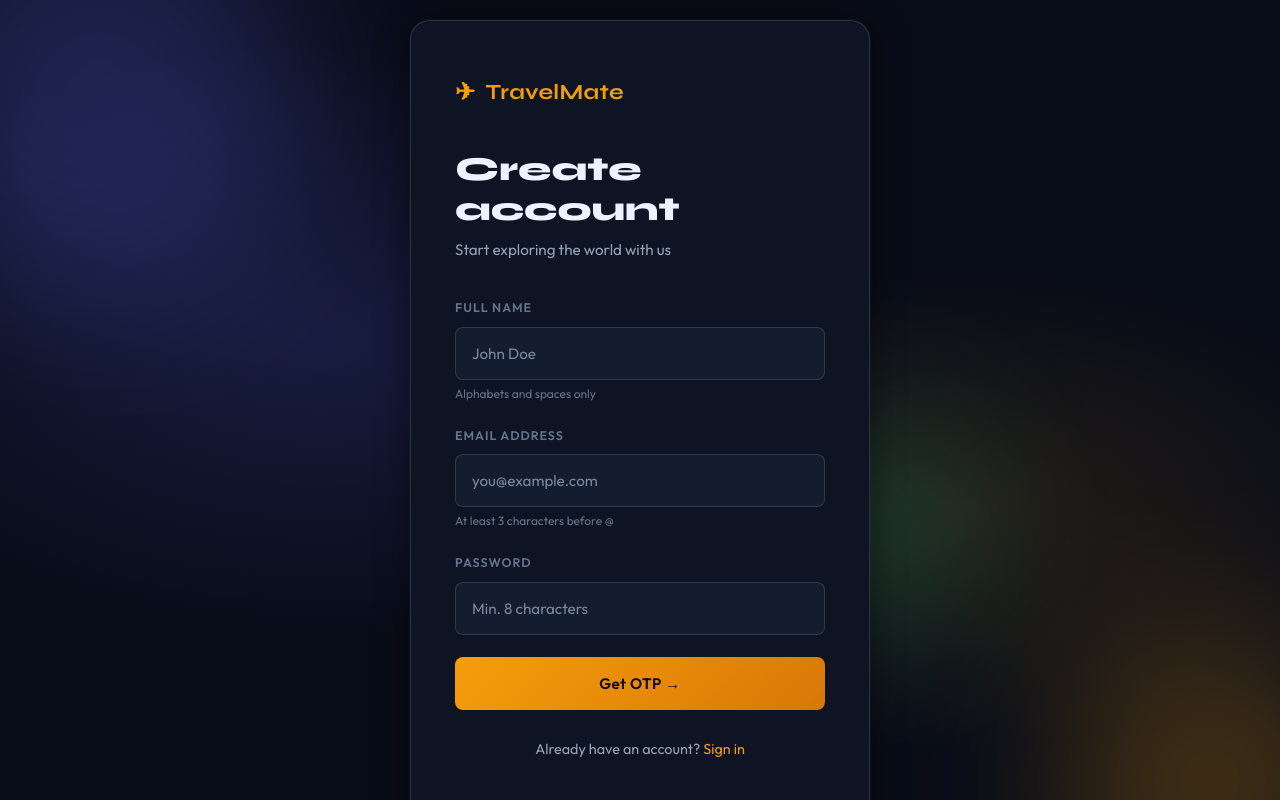
Test: Register Component › shows error if password is too short
The width and height of the screenshot is (1280, 800).
Type "Test User" into the field with placeholder "John Doe" at (640, 353), box [455,327,825,380]
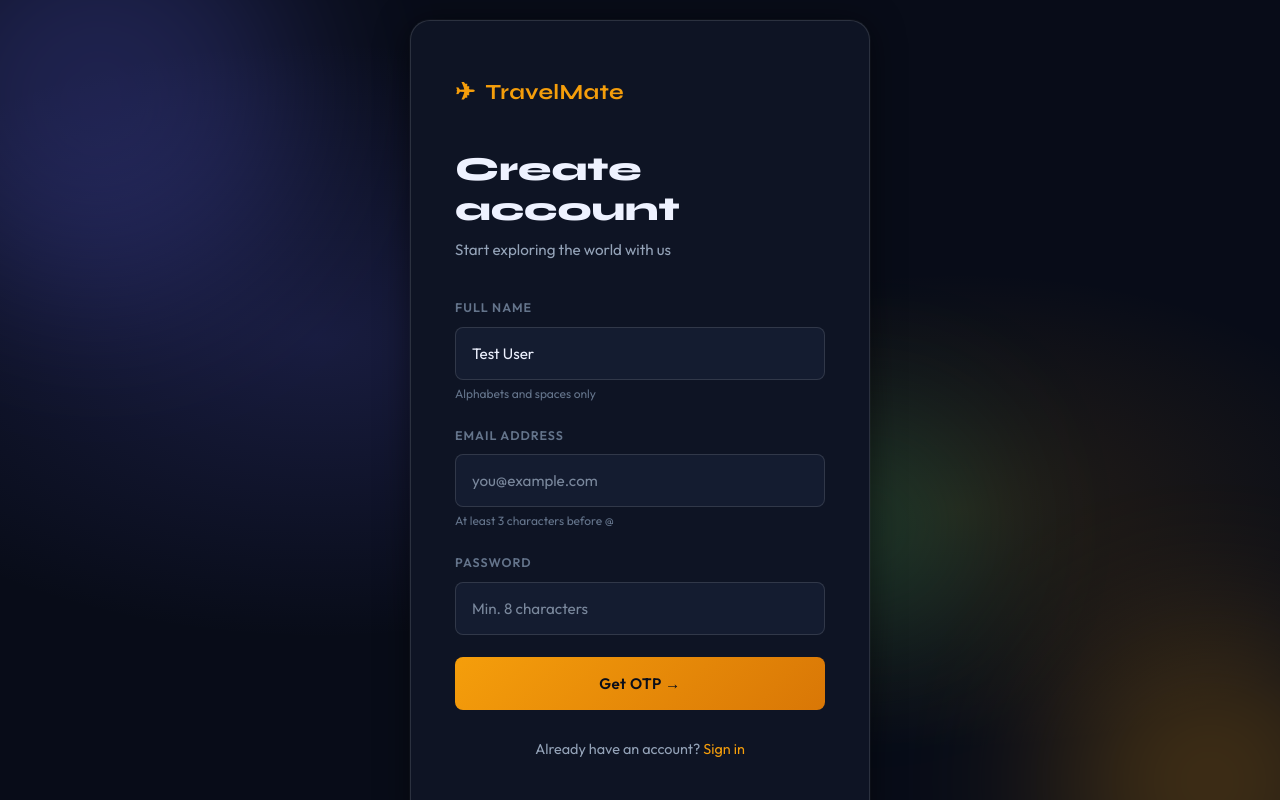
Type "test@test.com" into the field with placeholder "you@example.com" at (640, 481), box [455,454,825,507]
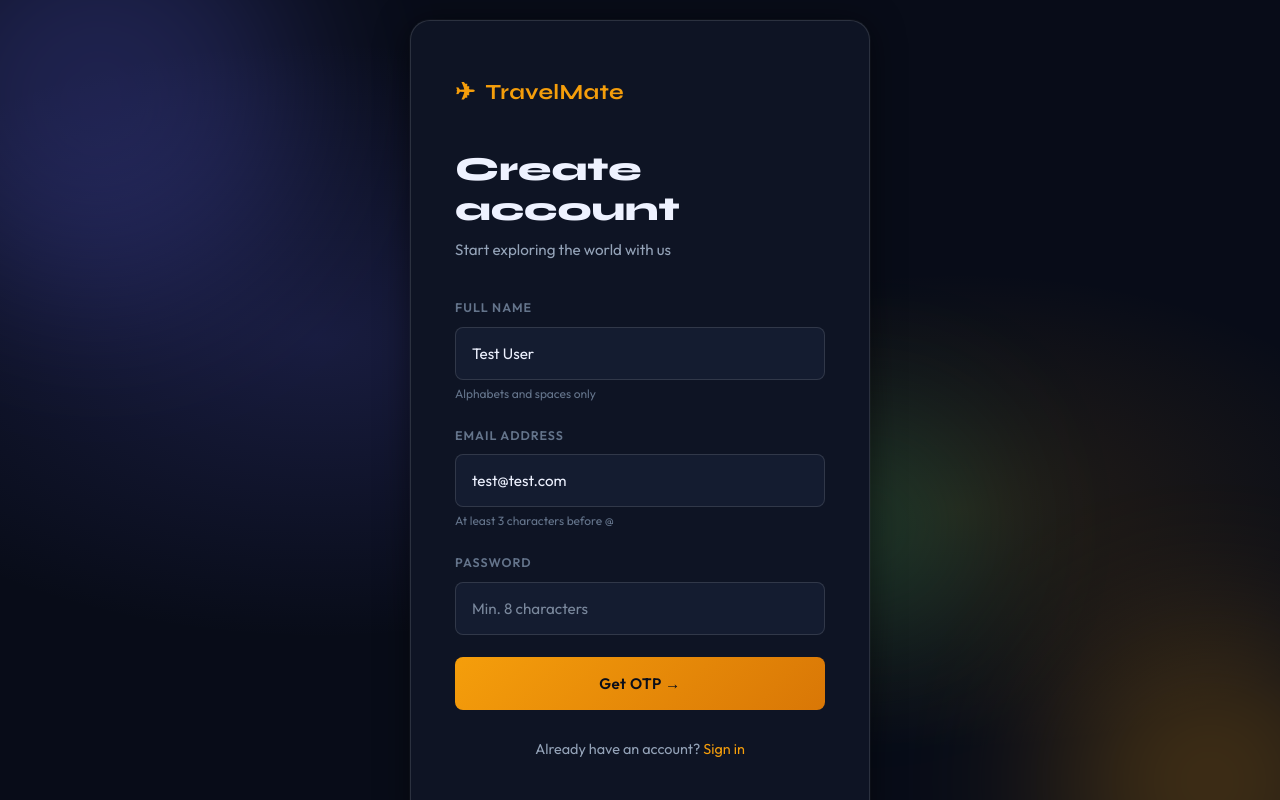
Type "short" into the password field with placeholder "Min. 8 characters" at (640, 608), box [455,582,825,635]
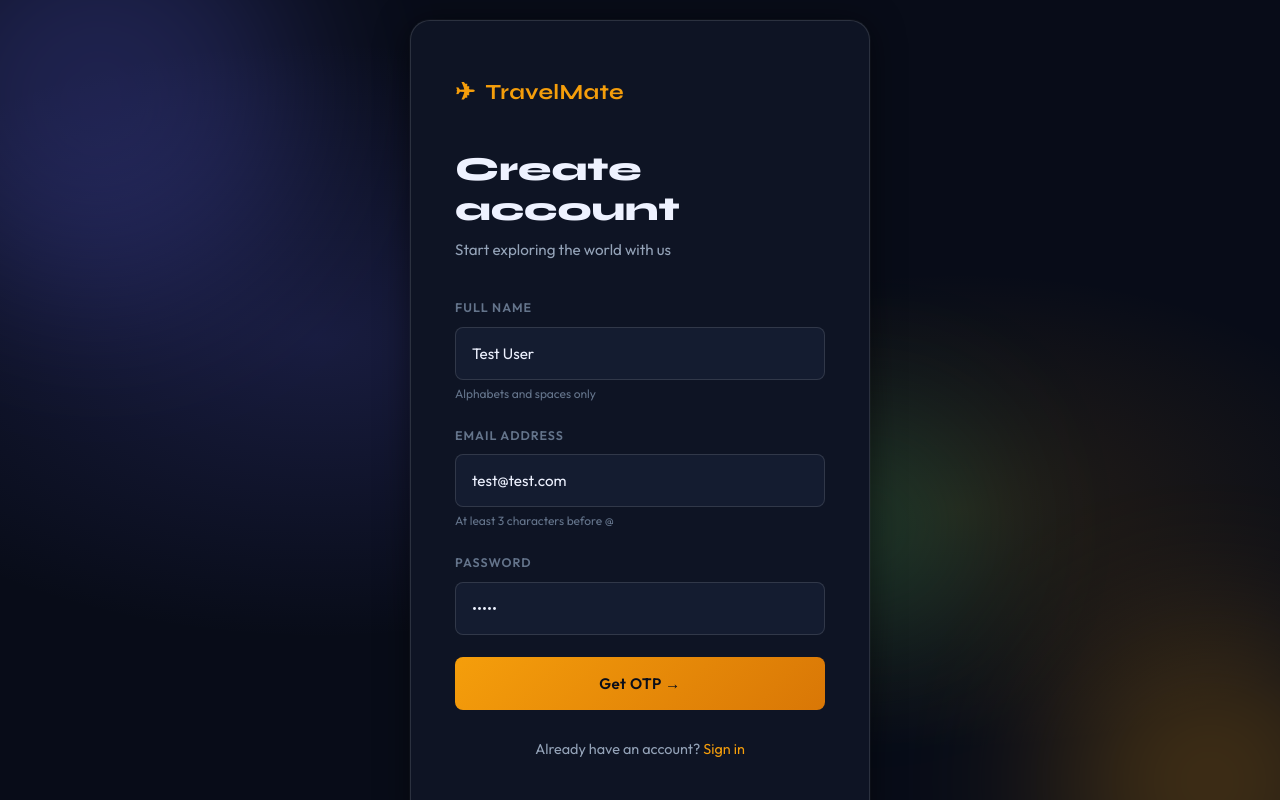
Click the button "Get OTP →" at (640, 683), box [455,657,825,710]
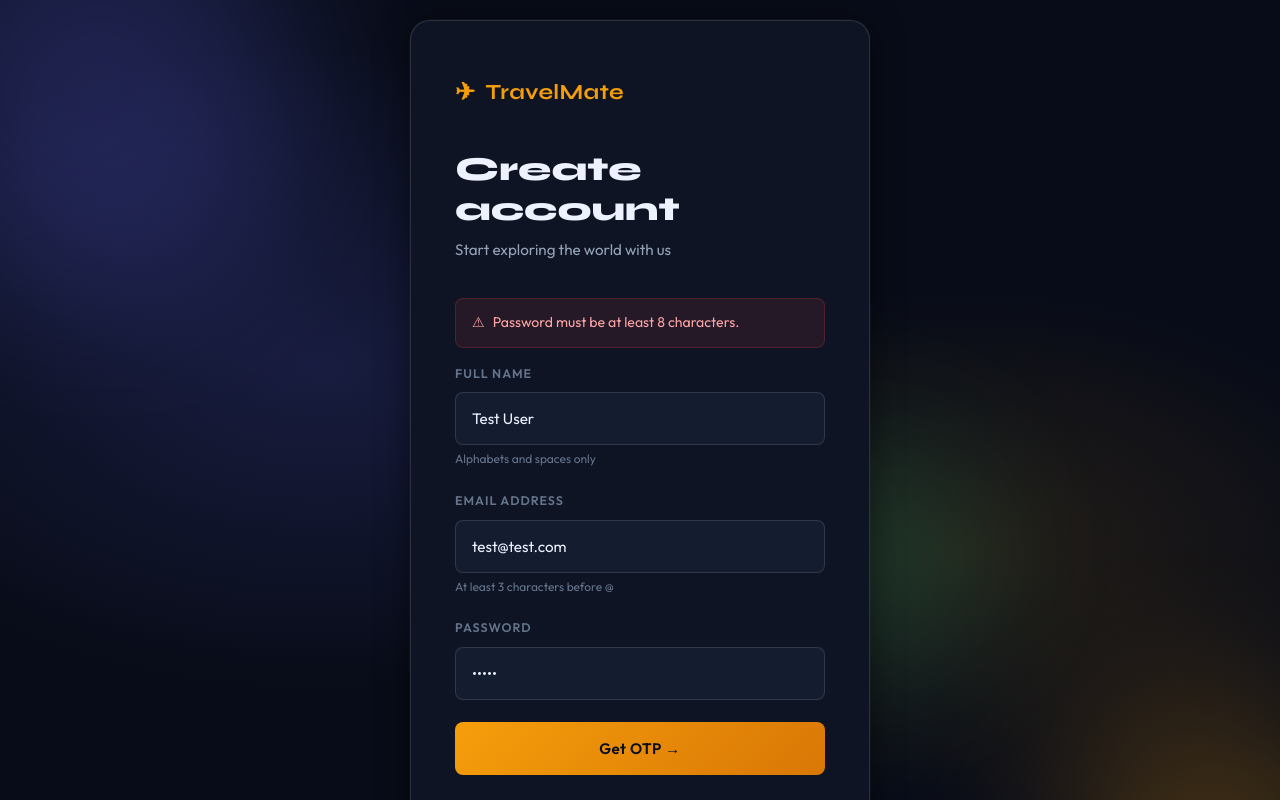
Expected: the text "Password must be at least 8 characters." is shown, [493,313,739,331]
